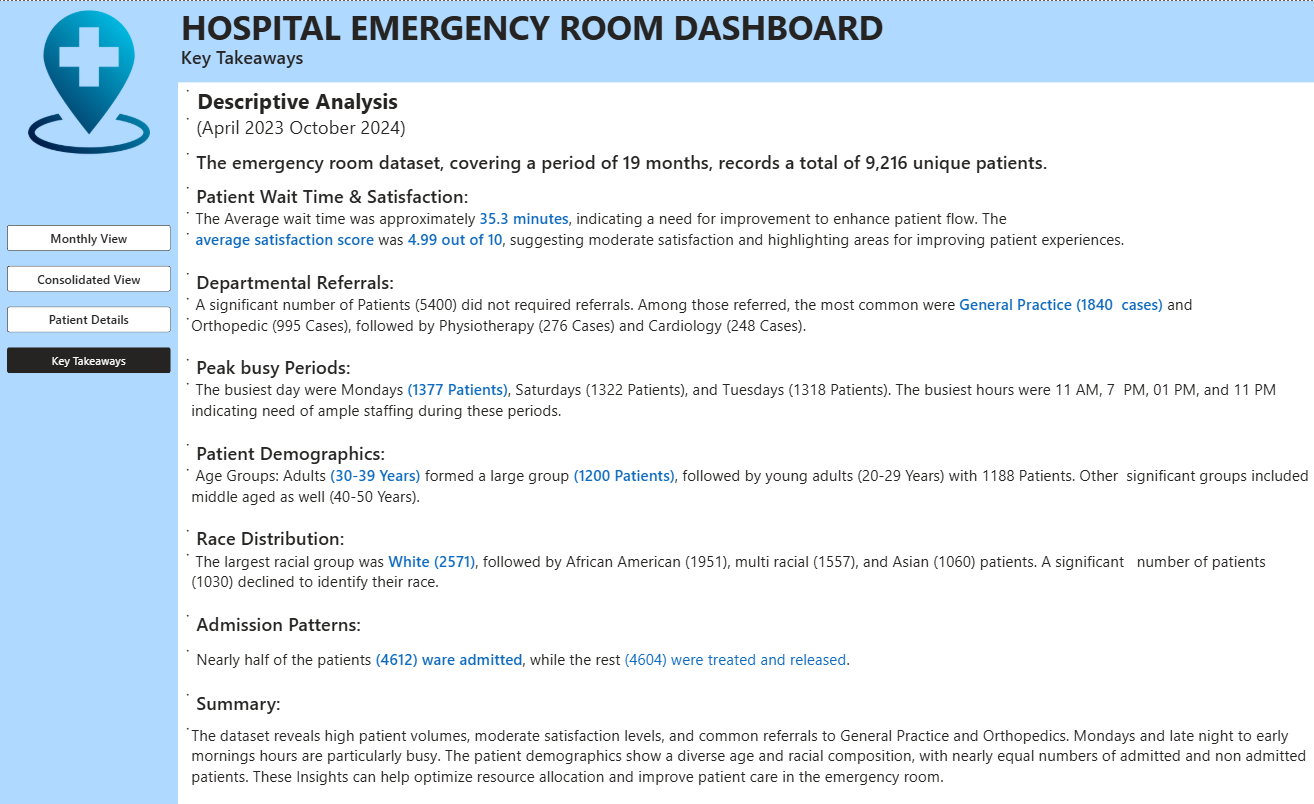

This screenshot's page, from the dashboard's own definition file:
{"tool":"powerbi","page":{"name":"Key Takeaways","canvas":[2300,1400],"ordinal":3},"visuals":[{"type":"shape","box":[319.8,0,1980.2,141.6],"z":0},{"type":"textbox","box":[319.8,0,1256.6,92.6],"z":1000},{"type":"textbox","box":[320.4,69.7,337.8,62.7],"z":2000},{"type":"shape","box":[10.5,0,310,1399.9],"z":3000},{"type":"image","box":[40,1.7,250.7,278.6],"z":4000},{"type":"textbox","box":[320,142,1980,1258],"z":5000},{"type":"pageNavigator","box":[22.6,390,285.6,259.5],"z":6000}]}

Visuals, with their boxes on the page's 2300x1400 design canvas (x1, y1, x2, y2). These are canvas units, not pixel positions in the 1314x804 screenshot, which may show the page scaled, cropped or inside an application window:
shape: <box>320,0,2300,142</box>
textbox: <box>320,0,1576,93</box>
textbox: <box>320,70,658,132</box>
shape: <box>10,0,320,1400</box>
image: <box>40,2,291,280</box>
textbox: <box>320,142,2300,1400</box>
pageNavigator: <box>23,390,308,650</box>
